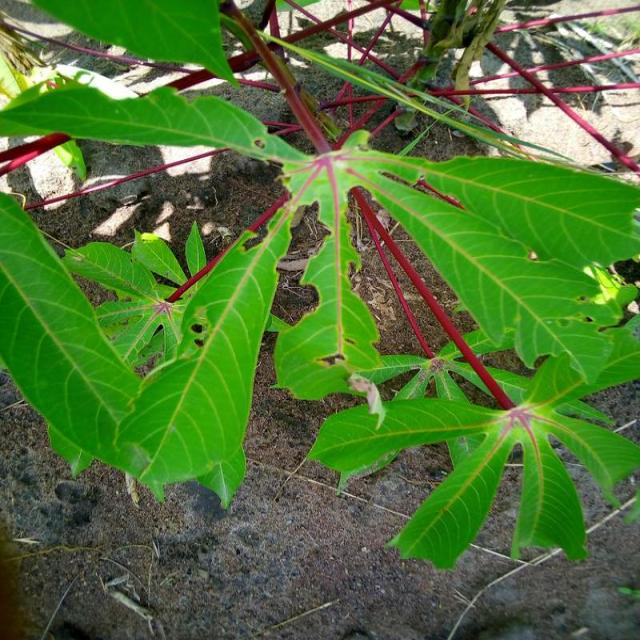cassava leaf: (1, 2, 638, 571), (0, 188, 293, 510), (342, 145, 638, 402)
